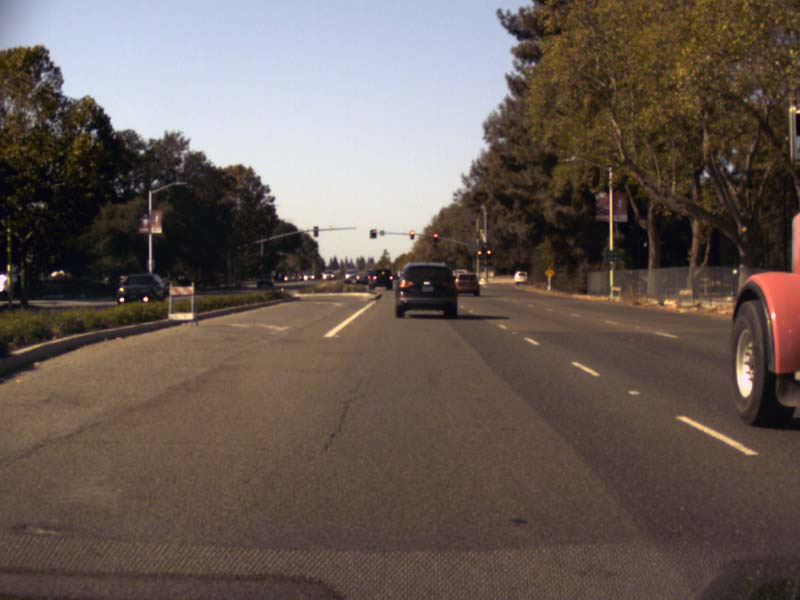Red: (371, 230, 376, 238)
Yellow: (486, 245, 492, 258), (477, 246, 482, 258), (433, 231, 438, 243), (410, 230, 414, 239)
